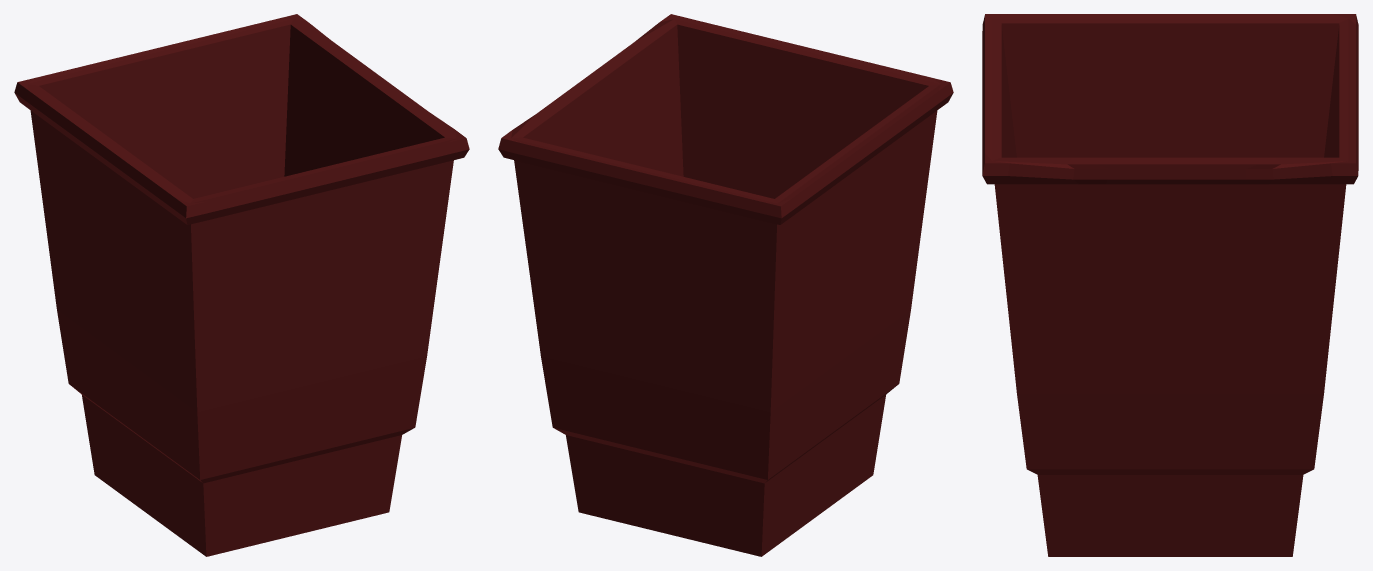
The model's file is trash_nolid.FBX.
The picture shows the model from 3 angles, left to right: view 1: azimuth 30°, elevation 25°; view 2: azimuth 150°, elevation 25°; view 3: azimuth 270°, elevation 25°; orthographic projection. The views are drawn at different scales.
Visible parts, largest first — view 1: Box001; view 2: Box001; view 3: Box001.
Boxes of the visible parts, x1,y1,x2,y2 form: Box001: (14,14,469,556); Box001: (498,14,953,556); Box001: (982,14,1358,556).
Bounding box in the file's own units: 38.22 × 49.39 × 40.14.
